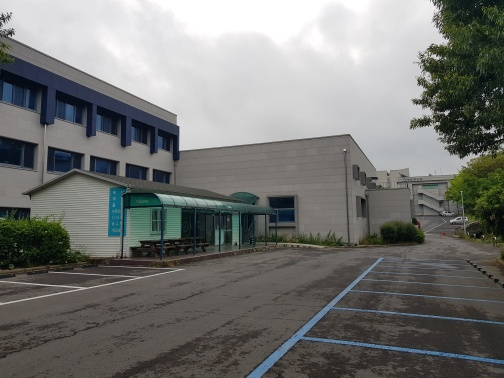College of Social Sciences: (17, 53, 402, 252), (20, 161, 287, 260)
